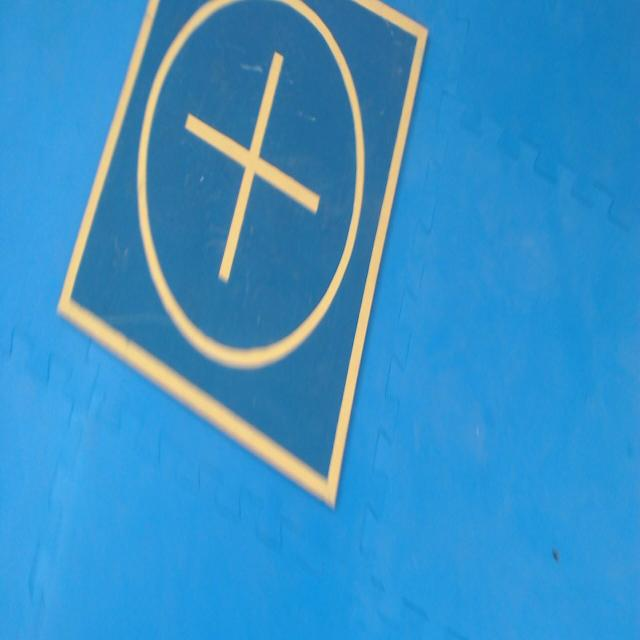base_pouso: (55, 0, 429, 513)
